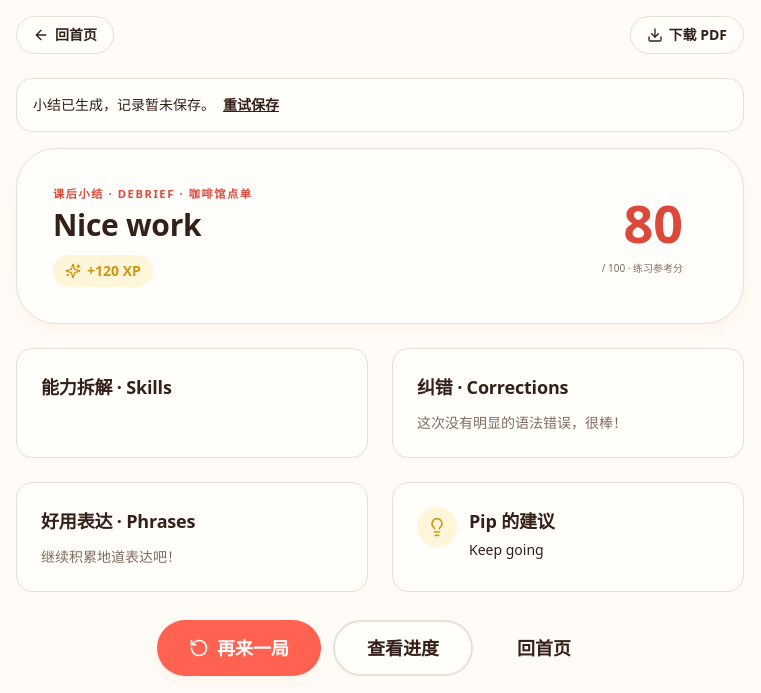
Test: still retries a failed save under the same identity
Click the button "重试保存" at (251, 105), box [223,95,279,115]
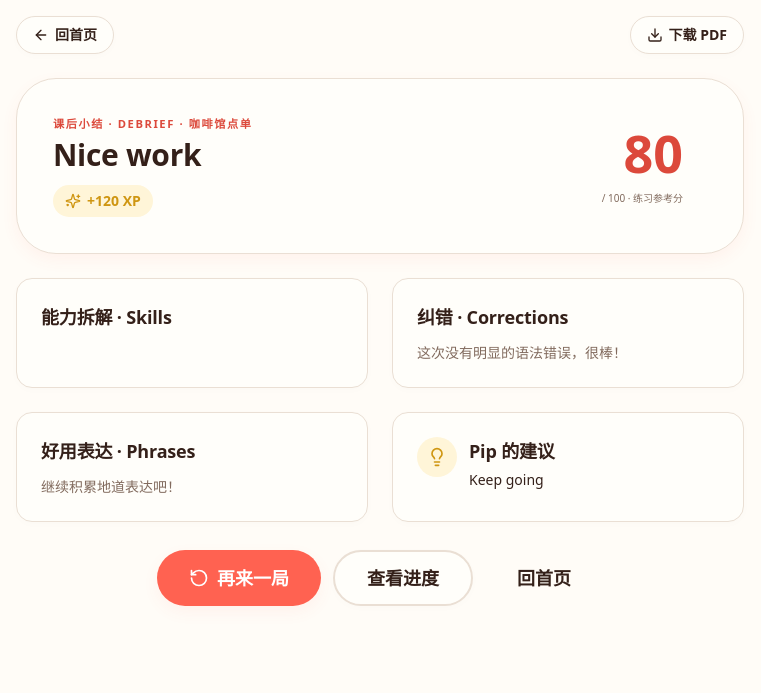
Now the button "重试保存" is gone
